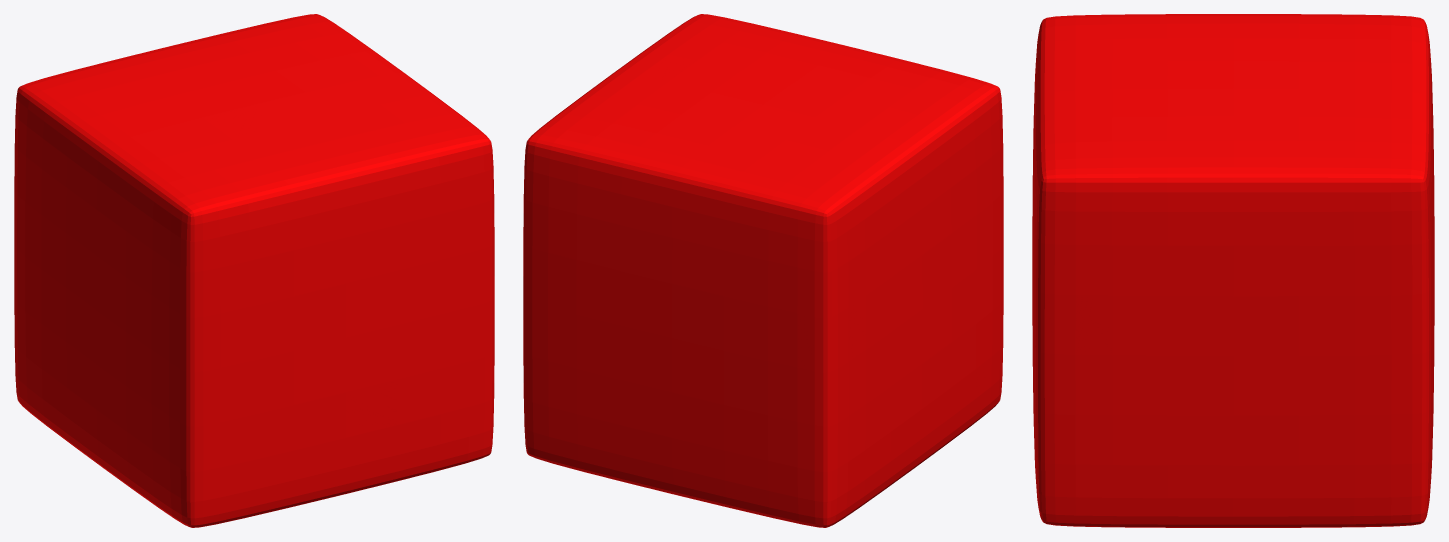
File: jelly.fbx
The picture shows the model from 3 angles, left to right: view 1: azimuth 30°, elevation 25°; view 2: azimuth 150°, elevation 25°; view 3: azimuth 270°, elevation 25°; orthographic projection. The views are drawn at different scales.
Parts seen in each view (by area): view 1: Cube.001; view 2: Cube.001; view 3: Cube.001.
Boxes of the visible parts, <box> form: Cube.001: <box>14,14,494,527</box>; Cube.001: <box>523,14,1003,527</box>; Cube.001: <box>1032,14,1434,527</box>.
Bounding box in the file's own units: 199 × 199 × 199.
